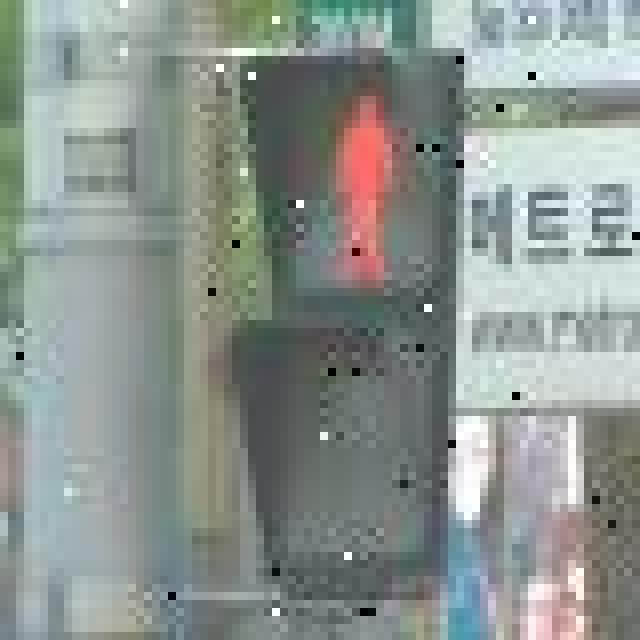redlight: (240, 32, 480, 584)
